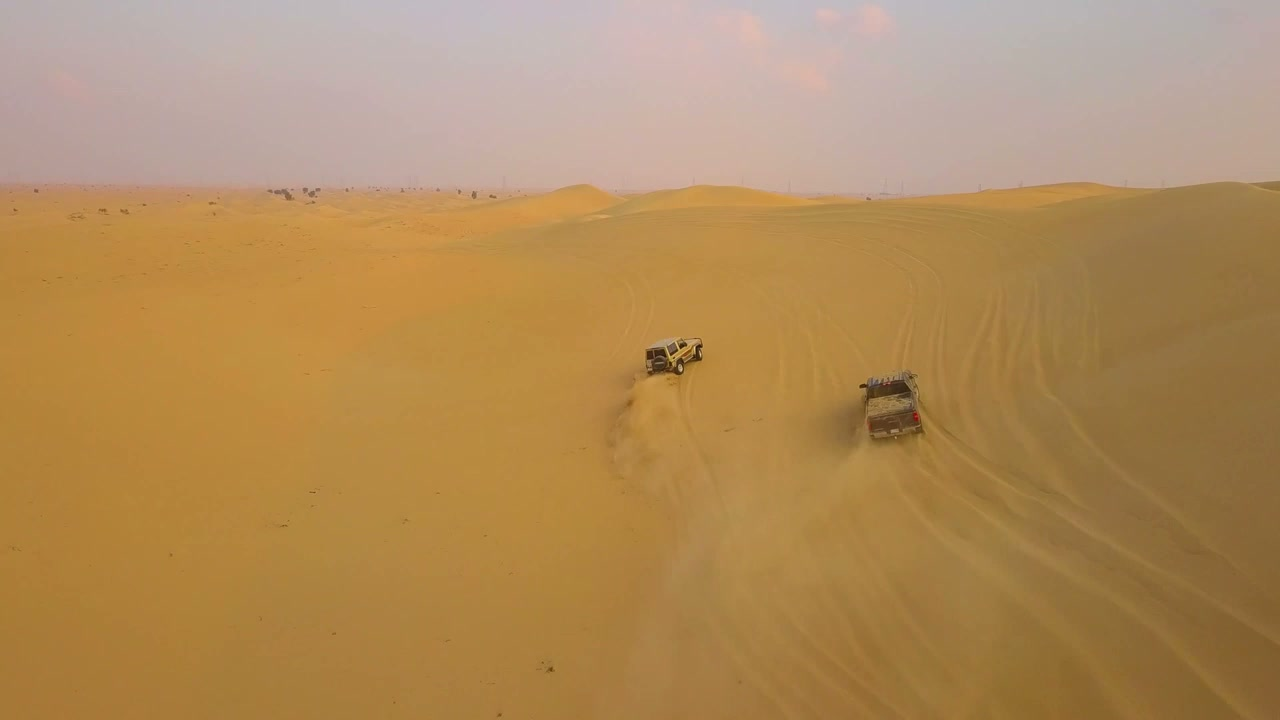vehicle_track: (911, 278, 1279, 719), (762, 280, 1006, 719), (660, 406, 906, 719), (888, 233, 953, 366)
